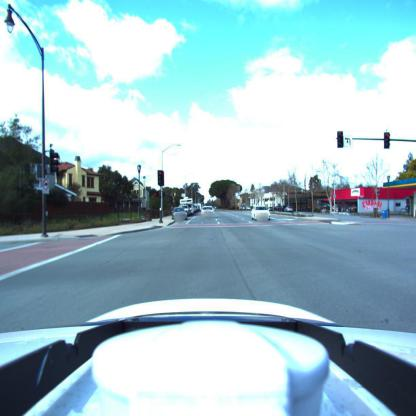car: (252, 206, 271, 220), (173, 206, 187, 221), (187, 204, 201, 215), (201, 204, 215, 212), (283, 205, 293, 211)
traffic light: (336, 132, 344, 147), (158, 170, 165, 186), (384, 133, 390, 150)
